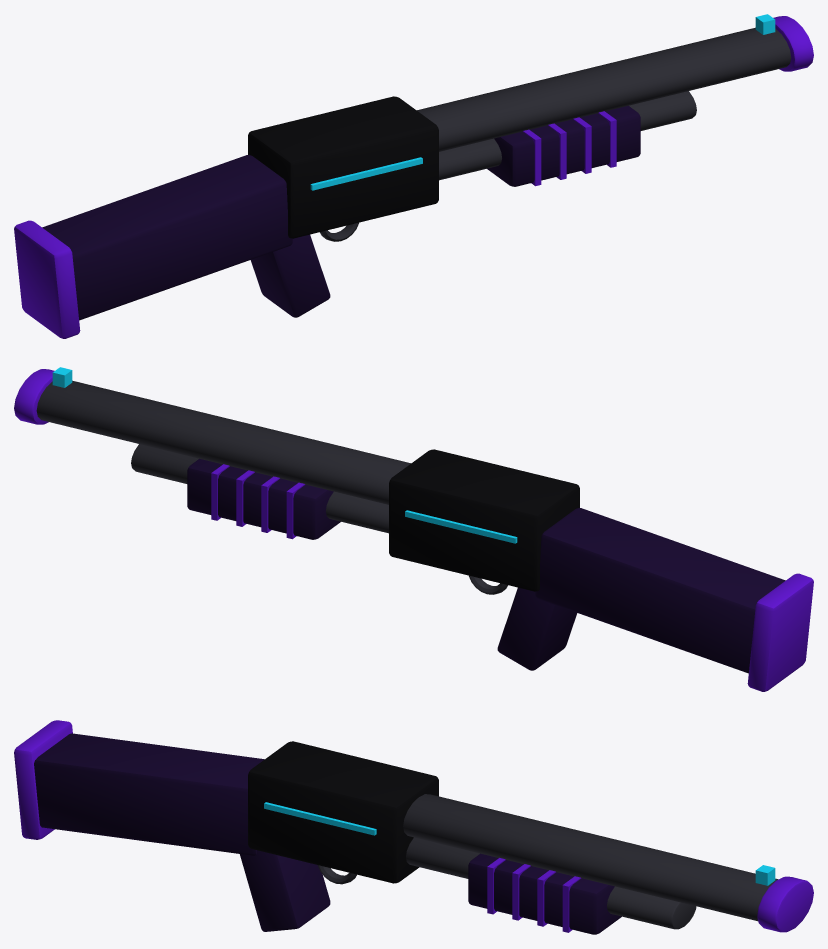
File: SGP_Shotgun_Neon.obj
3 renders of one model, top to bottom at view 1: azimuth 30°, elevation 25°; view 2: azimuth 150°, elevation 25°; view 3: azimuth 330°, elevation 25°, orthographic.
Parts seen in each view (by area): view 1: SGP_Shotgun_Neon; view 2: SGP_Shotgun_Neon; view 3: SGP_Shotgun_Neon.
Part boxes in pixels (bbox=[...]): SGP_Shotgun_Neon: bbox=[14, 14, 813, 338]; SGP_Shotgun_Neon: bbox=[14, 367, 813, 691]; SGP_Shotgun_Neon: bbox=[14, 720, 813, 934].
Bounding box in the file's own units: 0.759 × 0.1617 × 0.0832.
